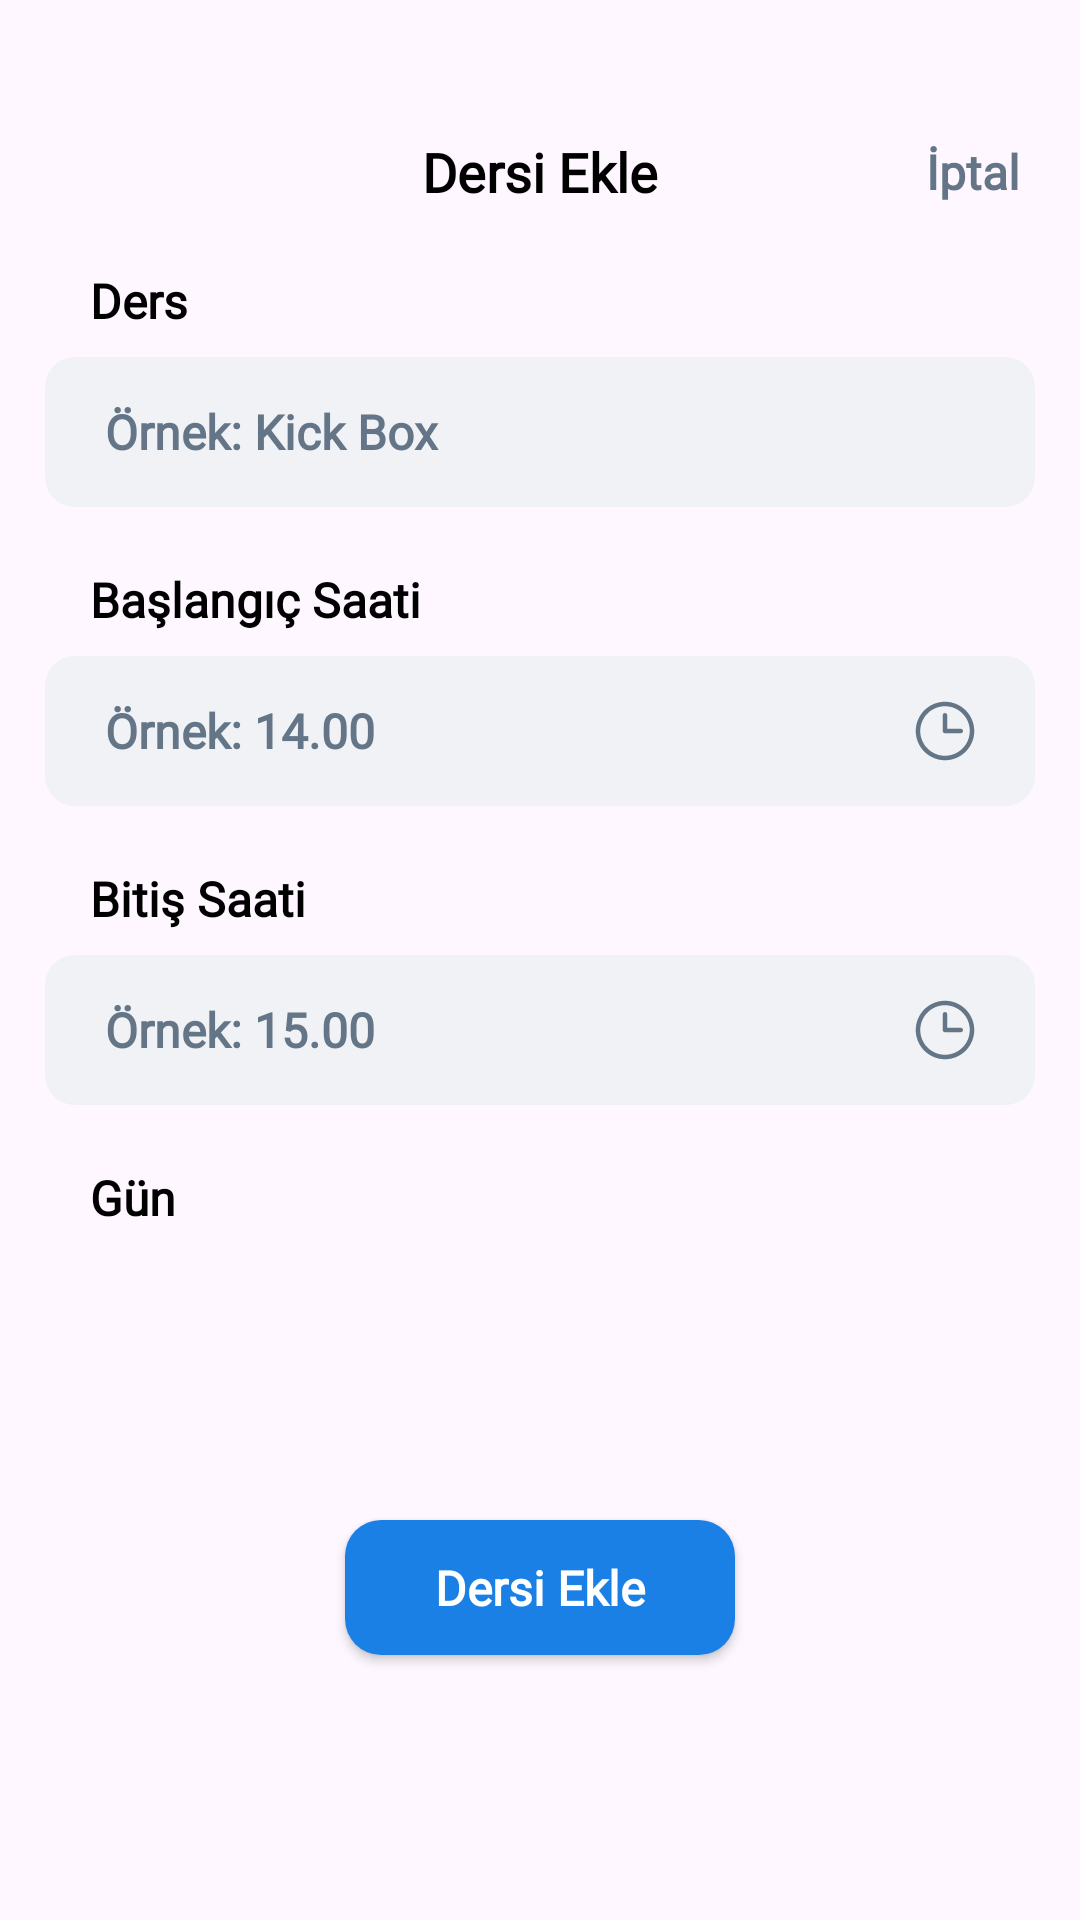

Screen size 1080x1920. Icon name, then its center in pixels as (x=x, y=y):
clock: (x=945, y=731), (x=945, y=1030)
